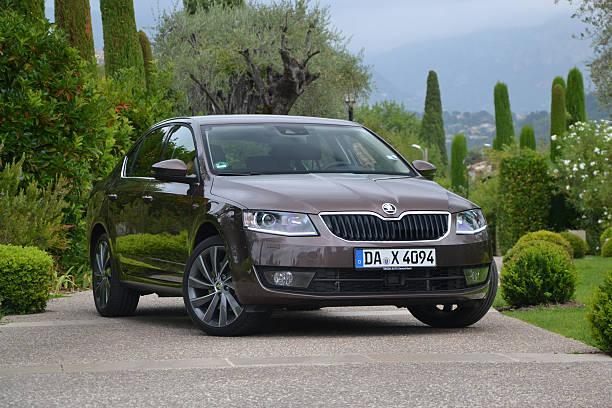skoda: (378, 194, 402, 218)
